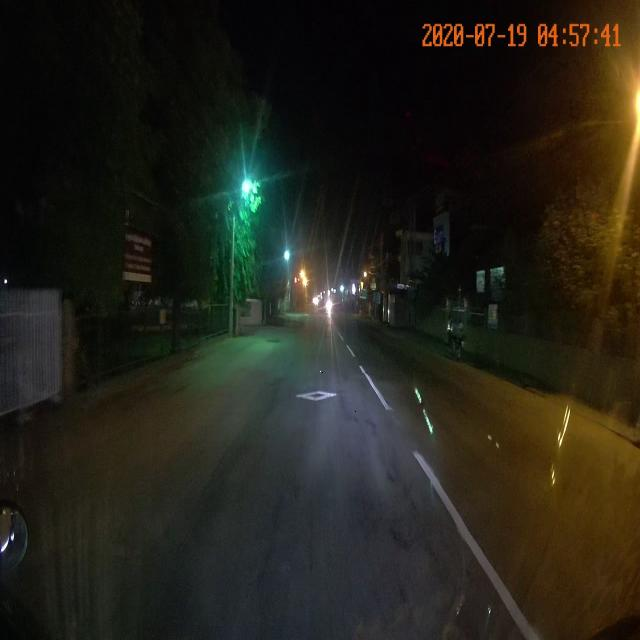diamond: (289, 370, 392, 415)
